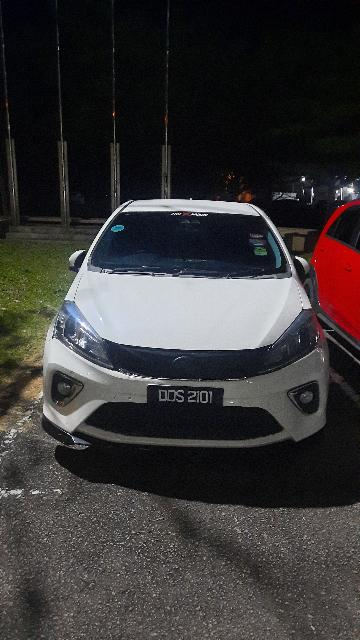License_Plate: (148, 384, 225, 412)
car: (41, 197, 332, 453), (307, 199, 360, 378)
